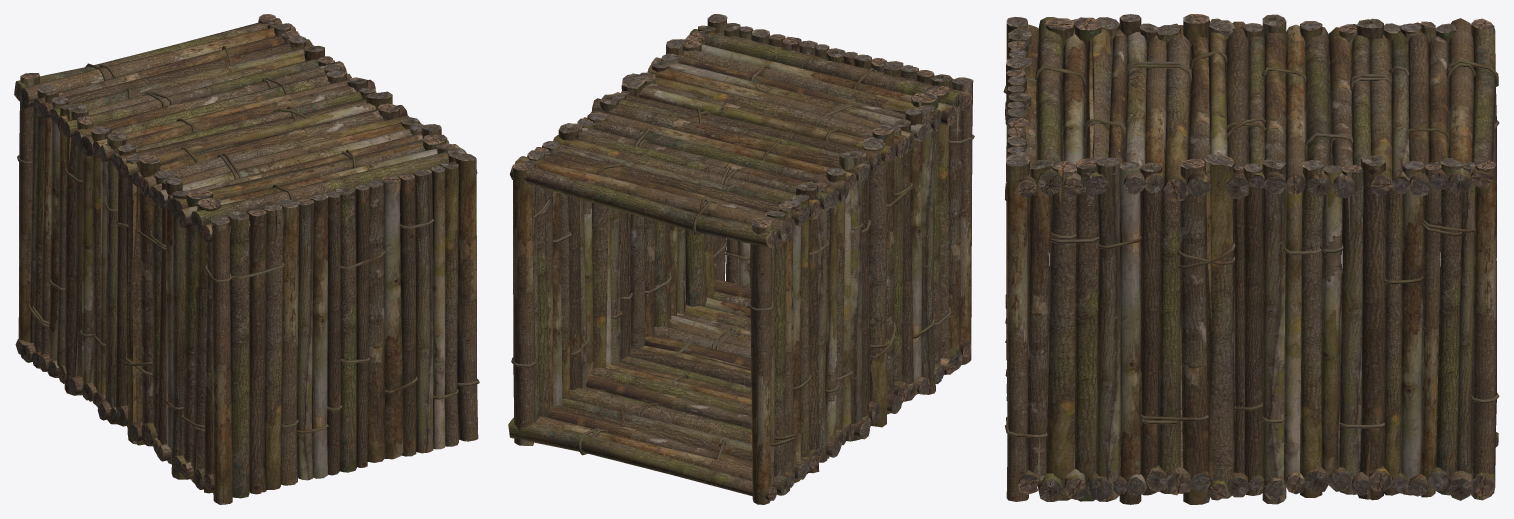
Rendered from VIK_RAM_Camp_TowerBase_01A_LOD0-transformed.glb.
The picture shows the model from 3 angles, left to right: view 1: azimuth 30°, elevation 25°; view 2: azimuth 150°, elevation 25°; view 3: azimuth 270°, elevation 25°; orthographic projection. The views are drawn at different scales.
Visible parts, largest first — view 1: VIK_RAM_Camp_TowerBase_01A_LOD0; view 2: VIK_RAM_Camp_TowerBase_01A_LOD0; view 3: VIK_RAM_Camp_TowerBase_01A_LOD0.
Boxes of the visible parts, bbox=[...] form: VIK_RAM_Camp_TowerBase_01A_LOD0: bbox=[14, 14, 479, 504]; VIK_RAM_Camp_TowerBase_01A_LOD0: bbox=[508, 14, 974, 504]; VIK_RAM_Camp_TowerBase_01A_LOD0: bbox=[1003, 14, 1499, 504].
Bounding box in the file's own units: 0.0649 × 0.0646 × 0.0848.
Materials: 3 (3 with a texture image).
